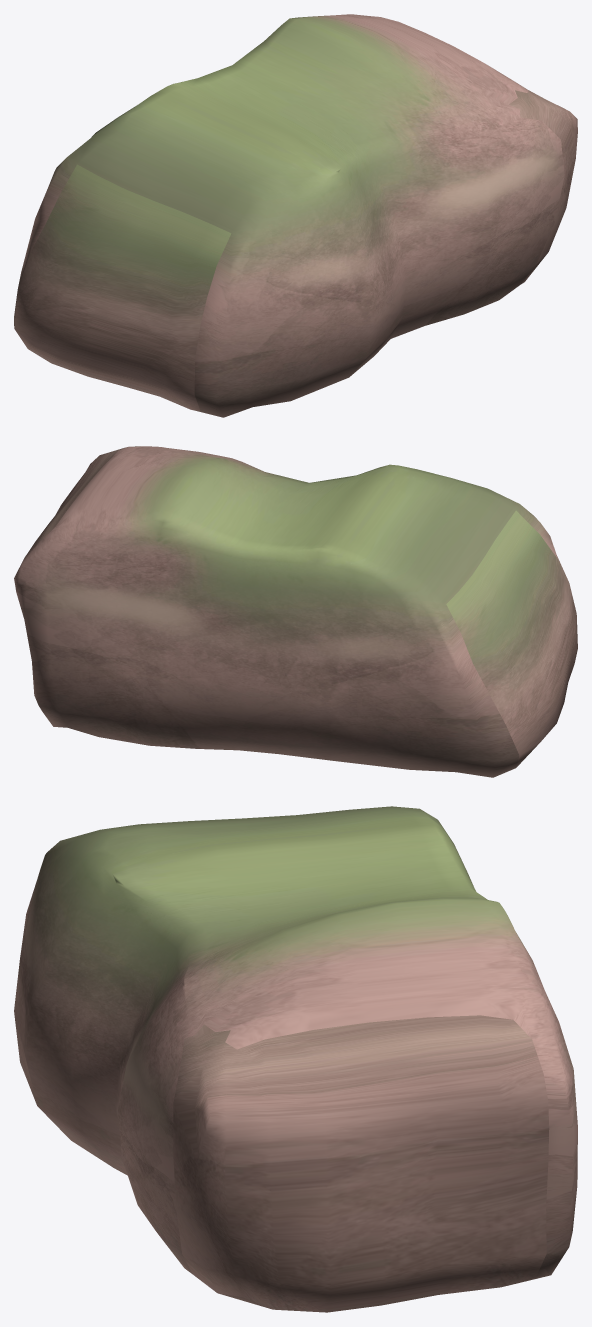
The model's file is Steen.fbx.
3 views of the same model, one above another, from view 1: azimuth 30°, elevation 25°; view 2: azimuth 150°, elevation 25°; view 3: azimuth 270°, elevation 25° (orthographic). The views are drawn at different scales.
Parts seen in each view (by area): view 1: pCube1; view 2: pCube1; view 3: pCube1.
Part boxes in pixels (box(x1,y1,x2,y2)): pCube1: box(14, 14, 577, 417); pCube1: box(14, 446, 577, 777); pCube1: box(14, 806, 577, 1312).
Size of the model in its own units: 21.16 by 9.69 by 14.96.
1 material, 1 textured.
